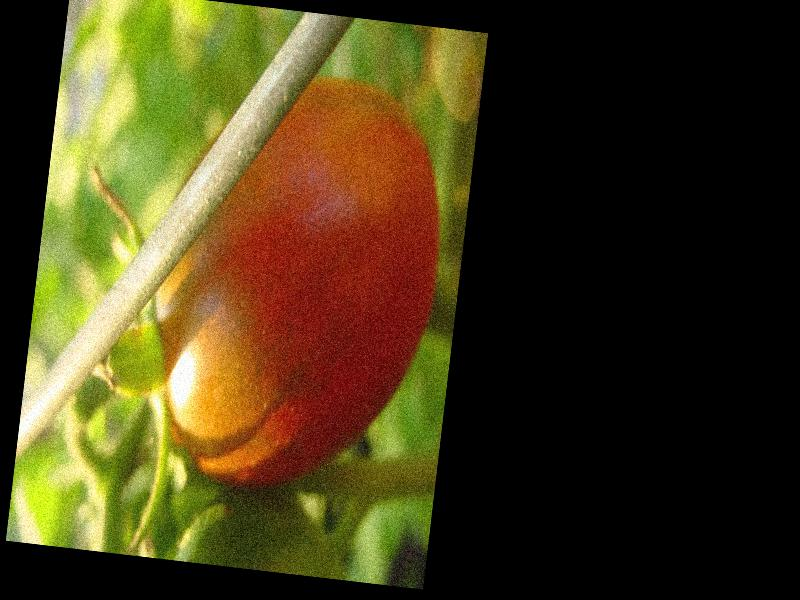Tomato: (136, 67, 456, 500)
